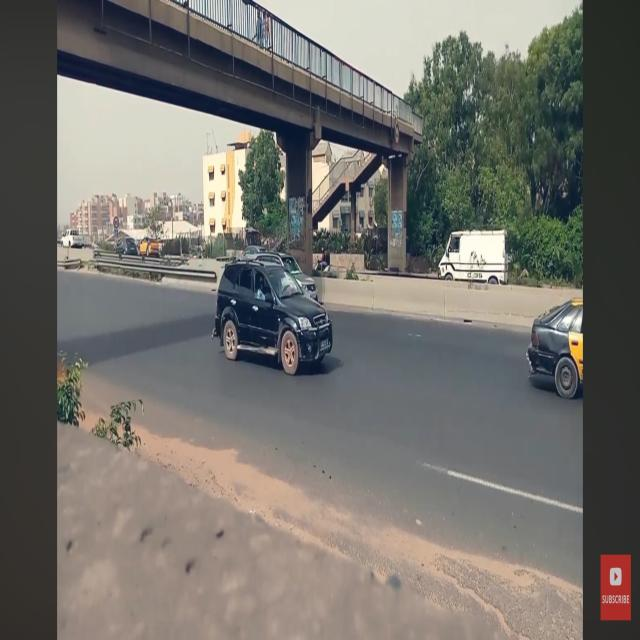fourgon: (438, 229, 511, 286)
moto: (315, 258, 333, 277)
particulier: (215, 256, 334, 374), (62, 227, 86, 251), (115, 237, 138, 260), (240, 246, 266, 262)
taxi: (527, 299, 585, 400), (138, 238, 161, 258)
